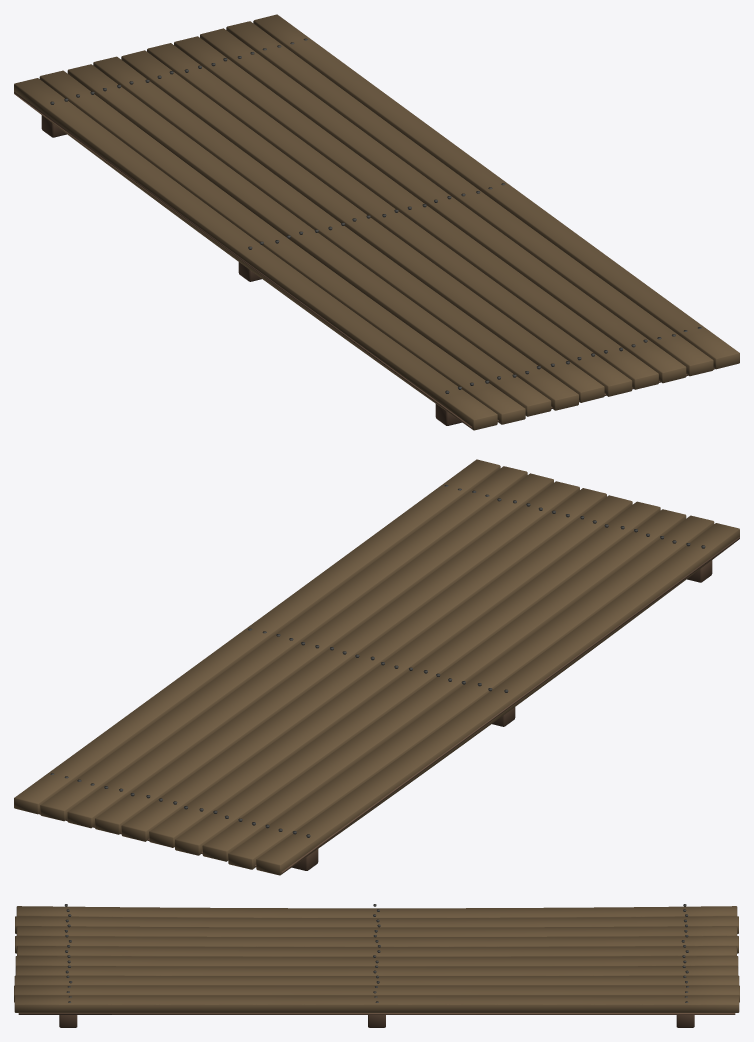
The model's file is dock_deck_2m.glb.
3 renders of one model, top to bottom at view 1: azimuth 30°, elevation 25°; view 2: azimuth 150°, elevation 25°; view 3: azimuth 270°, elevation 25°, orthographic. The views are drawn at different scales.
Parts seen in each view (by area): view 1: Dock_Deck_2m_Planks, Dock_Deck_2m_Underlay, Dock_Deck_2m_Nails, Dock_Deck_2m_Stringers; view 2: Dock_Deck_2m_Planks, Dock_Deck_2m_Underlay, Dock_Deck_2m_Nails, Dock_Deck_2m_Stringers; view 3: Dock_Deck_2m_Planks, Dock_Deck_2m_Underlay, Dock_Deck_2m_Stringers, Dock_Deck_2m_Nails.
Part boxes in pixels (x1,y1,x2,y2): Dock_Deck_2m_Planks: [14, 14, 739, 430]; Dock_Deck_2m_Underlay: [14, 92, 715, 428]; Dock_Deck_2m_Nails: [50, 38, 701, 393]; Dock_Deck_2m_Stringers: [41, 115, 461, 425]; Dock_Deck_2m_Planks: [14, 459, 739, 875]; Dock_Deck_2m_Underlay: [38, 537, 739, 873]; Dock_Deck_2m_Nails: [50, 485, 705, 837]; Dock_Deck_2m_Stringers: [292, 560, 712, 870]; Dock_Deck_2m_Planks: [14, 906, 739, 1012]; Dock_Deck_2m_Underlay: [18, 1013, 735, 1014]; Dock_Deck_2m_Stringers: [59, 1015, 694, 1027]; Dock_Deck_2m_Nails: [64, 904, 688, 1002].
Size of the model in its own units: 2 by 0.222 by 6.
